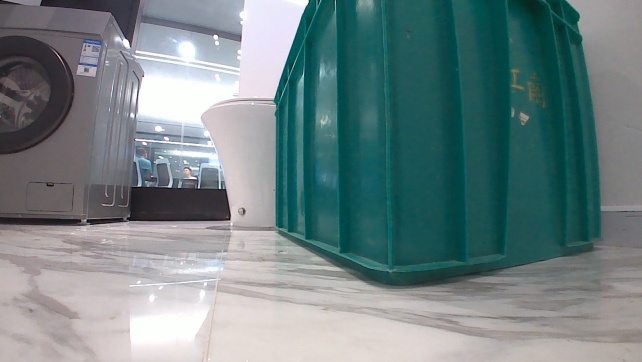toilet: (198, 95, 278, 228)
washing_machine: (0, 0, 145, 225)
